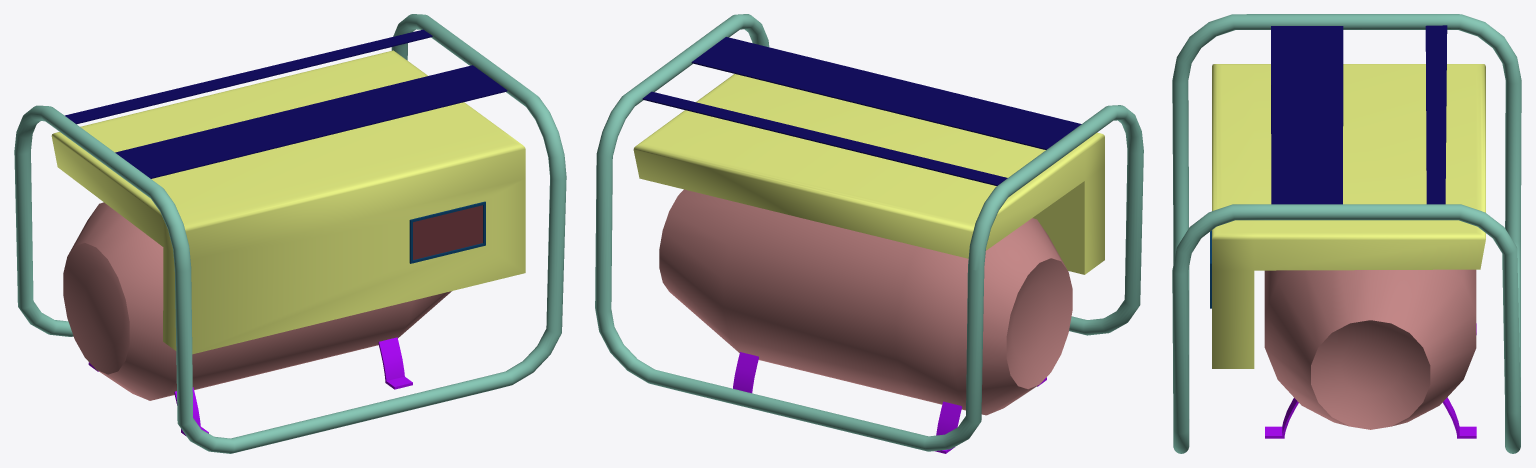
The model's file is generateur.fbx.
3 views of the same model, side by side, from view 1: azimuth 30°, elevation 25°; view 2: azimuth 150°, elevation 25°; view 3: azimuth 270°, elevation 25° (orthographic). The views are drawn at different scales.
Parts seen in each view (by area): view 1: Box001; view 2: Box001; view 3: Box001.
Boxes of the visible parts, box(x1,y1,x2,y2) form: Box001: box(14, 14, 566, 453); Box001: box(595, 14, 1143, 453); Box001: box(1172, 14, 1521, 453).
Bounding box in the file's own units: 130 × 88.15 × 97.38.
